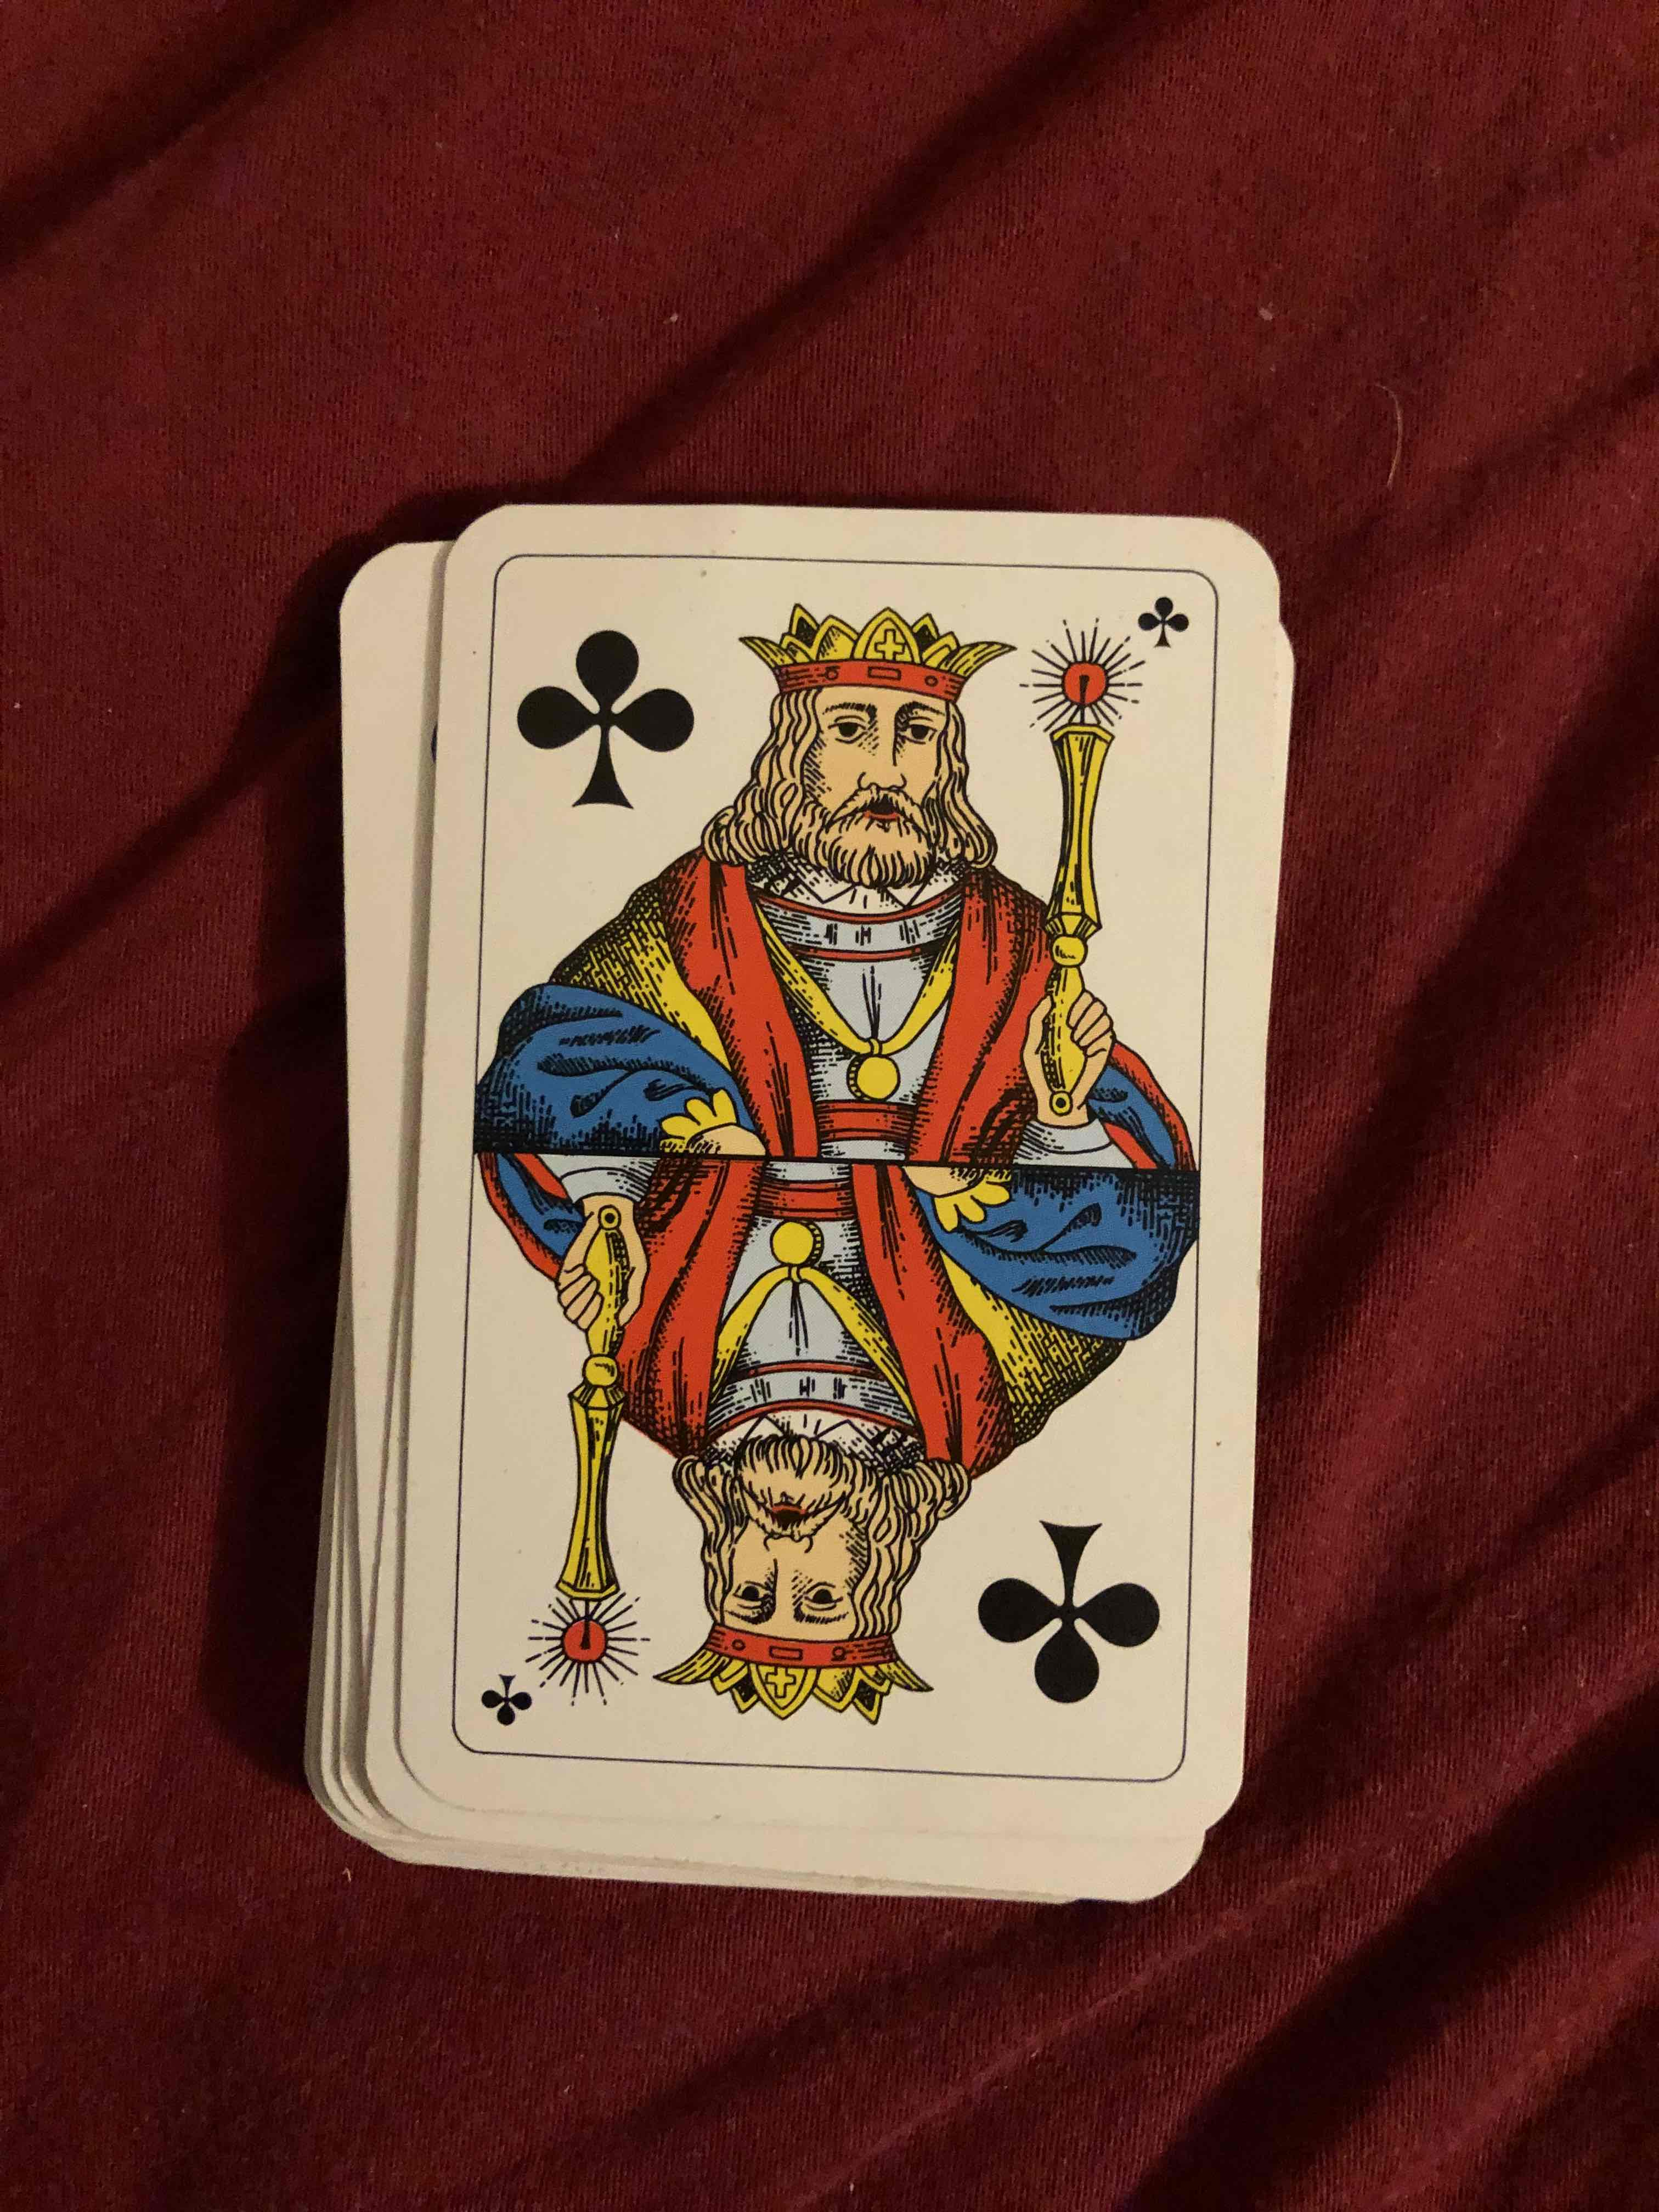clubsKing: (444, 516, 1244, 1829)
